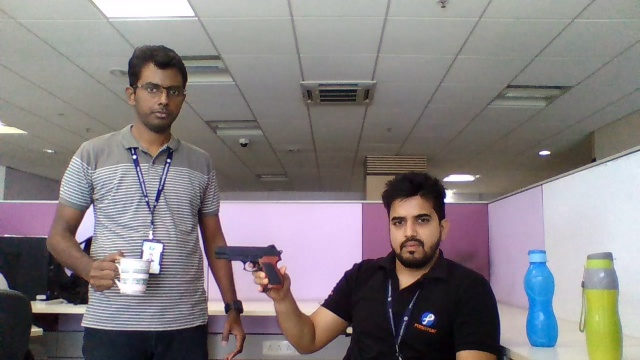gun: (215, 245, 277, 269)
